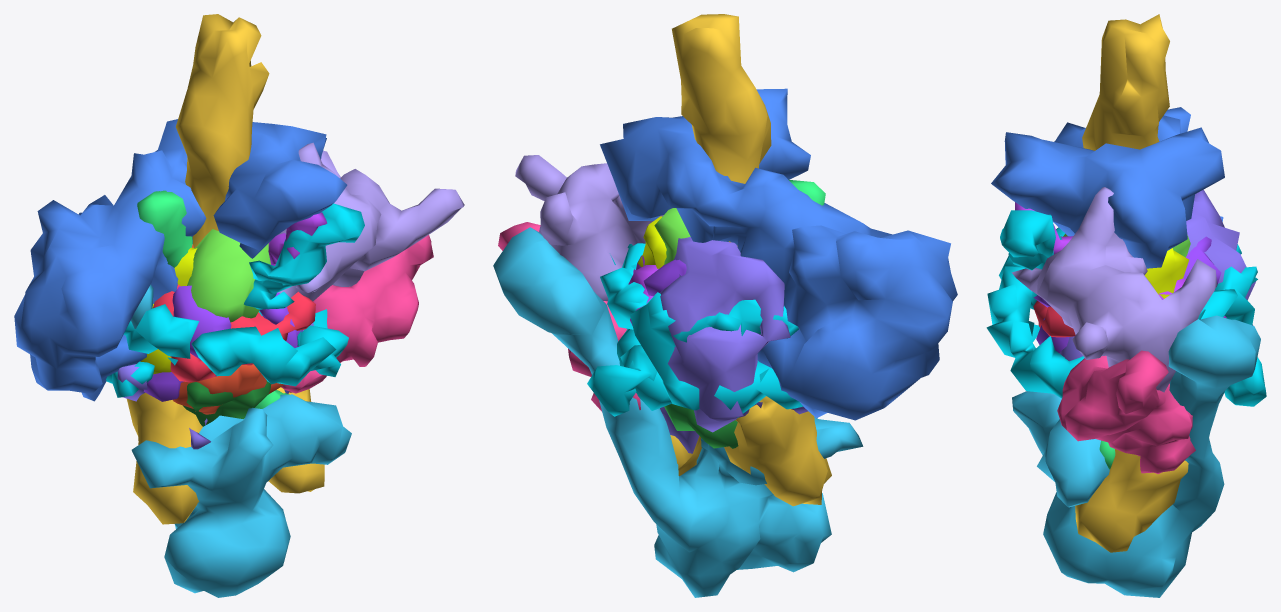
The model's file is kinetochore_pdb.glb.
3 views of the same model, side by side, from view 1: azimuth 30°, elevation 25°; view 2: azimuth 150°, elevation 25°; view 3: azimuth 270°, elevation 25° (orthographic). The views are drawn at different scales.
Visible parts, largest first — view 1: kt_ccan_hikm, kt_ccan_opqur, kt_mis12, kt_nuc_dna, kt_ccan_twsx, kt_ndc80_head, kt_ccan_dna, kt_tub_beta, kt_nuc_histone, kt_nuc_cenpa, kt_mad1, kt_tub_alpha (+3 smaller); view 2: kt_ccan_hikm, kt_ccan_opqur, kt_mis12, kt_ccan_ln, kt_nuc_dna, kt_ccan_twsx, kt_ccan_dna, kt_tub_alpha, kt_ndc80_head, kt_tub_beta, kt_mad2, kt_nuc_histone; view 3: kt_ccan_opqur, kt_ccan_hikm, kt_ccan_twsx, kt_mis12, kt_ndc80_head, kt_nuc_dna, kt_ccan_dna, kt_ccan_ln, kt_mad2, kt_nuc_histone, kt_nuc_cenpa, kt_mcc_bubr1.
Part boxes in pixels (box(x1,y1,x2,y2)): kt_ccan_hikm: box(14, 119, 347, 401); kt_ccan_opqur: box(131, 284, 351, 597); kt_mis12: box(127, 14, 324, 524); kt_nuc_dna: box(106, 304, 348, 397); kt_ccan_twsx: box(278, 142, 464, 301); kt_ndc80_head: box(281, 235, 433, 393); kt_ccan_dna: box(244, 203, 364, 315); kt_tub_beta: box(187, 229, 270, 322); kt_nuc_histone: box(143, 285, 303, 401); kt_nuc_cenpa: box(153, 284, 315, 382); kt_mad1: box(137, 190, 289, 408); kt_tub_alpha: box(183, 380, 271, 426); kt_ccan_hikm: box(600, 88, 957, 420); kt_ccan_opqur: box(493, 227, 863, 597); kt_mis12: box(670, 14, 831, 506); kt_ccan_ln: box(660, 237, 807, 453); kt_nuc_dna: box(600, 243, 803, 417); kt_ccan_twsx: box(515, 155, 663, 301); kt_ccan_dna: box(587, 345, 657, 416); kt_tub_alpha: box(664, 404, 738, 448); kt_ndc80_head: box(498, 222, 640, 411); kt_tub_beta: box(654, 208, 690, 264); kt_mad2: box(637, 216, 666, 268); kt_nuc_histone: box(643, 259, 686, 296); kt_ccan_opqur: box(1012, 315, 1260, 597); kt_ccan_hikm: box(991, 107, 1224, 268); kt_ccan_twsx: box(1011, 187, 1217, 392); kt_mis12: box(1075, 14, 1188, 552); kt_ndc80_head: box(1057, 350, 1195, 473); kt_nuc_dna: box(986, 227, 1257, 398); kt_ccan_dna: box(1000, 210, 1266, 406); kt_ccan_ln: box(1059, 189, 1255, 361); kt_mad2: box(1144, 248, 1188, 298); kt_nuc_histone: box(1033, 236, 1221, 352); kt_nuc_cenpa: box(1033, 300, 1075, 337); kt_mcc_bubr1: box(1015, 202, 1226, 318).
Bounding box in the file's own units: 19.52 × 24.05 × 10.62.
